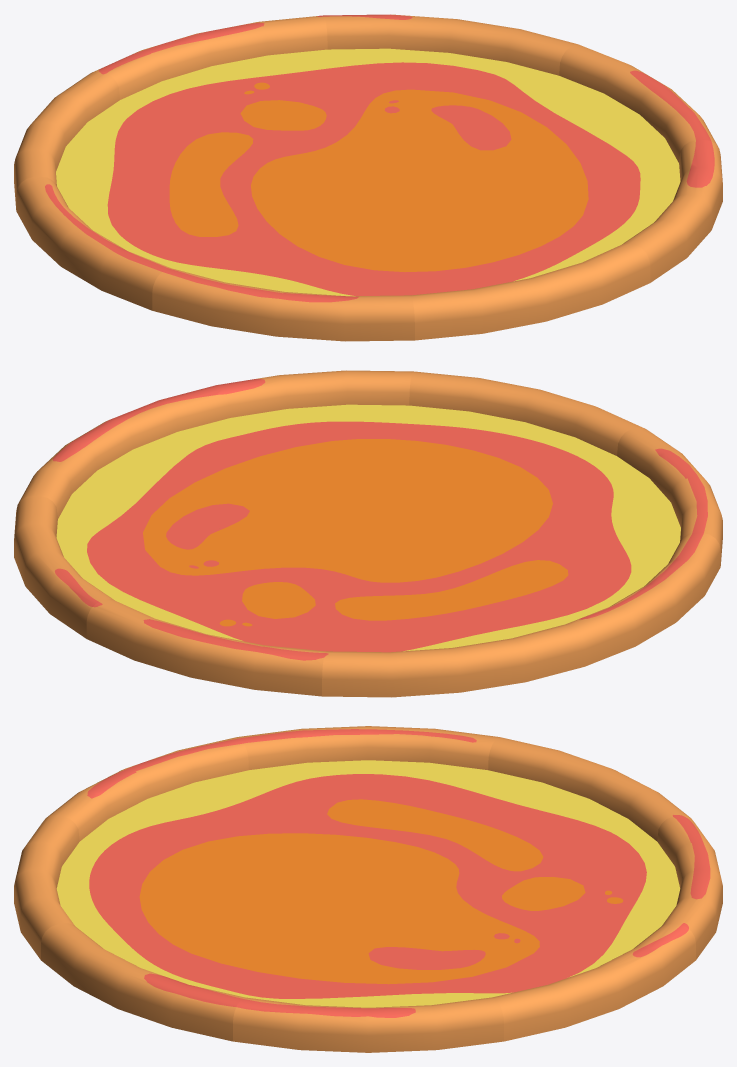
File: Dough Mustard .fbx
3 views of the same model, one above another, from view 1: azimuth 30°, elevation 25°; view 2: azimuth 150°, elevation 25°; view 3: azimuth 270°, elevation 25° (orthographic).
Visible parts, largest first — view 1: Dough.063, Dough.059, Dough.062, Dough.058, Dough.064, Dough.060, Dough.061, Dough.065; view 2: Dough.065, Dough.061, Dough.058, Dough.062, Dough.064, Dough.060, Dough.059, Dough.063; view 3: Dough.064, Dough.060, Dough.059, Dough.061, Dough.063, Dough.065, Dough.058, Dough.062.
Part boxes in pixels (x1,y1,x2,y2): Dough.063: (152,181,414,341); Dough.059: (323,14,577,180); Dough.062: (368,181,650,340); Dough.058: (96,15,368,180); Dough.064: (16,176,367,310); Dough.060: (369,44,718,180); Dough.061: (369,140,722,282); Dough.065: (14,71,367,209); Dough.065: (322,537,584,697); Dough.061: (159,370,413,536); Dough.058: (86,537,368,696); Dough.062: (368,371,640,536); Dough.064: (369,532,720,666); Dough.060: (18,400,367,536); Dough.059: (14,496,367,638); Dough.063: (369,427,722,565); Dough.064: (237,726,499,891); Dough.060: (233,892,503,1052); Dough.059: (369,892,695,1041); Dough.061: (41,892,367,1041); Dough.063: (46,737,367,891); Dough.065: (369,737,690,891); Dough.058: (369,815,722,959); Dough.062: (14,815,367,959).
Bounding box in the file's own units: 2 × 0.1032 × 2.
